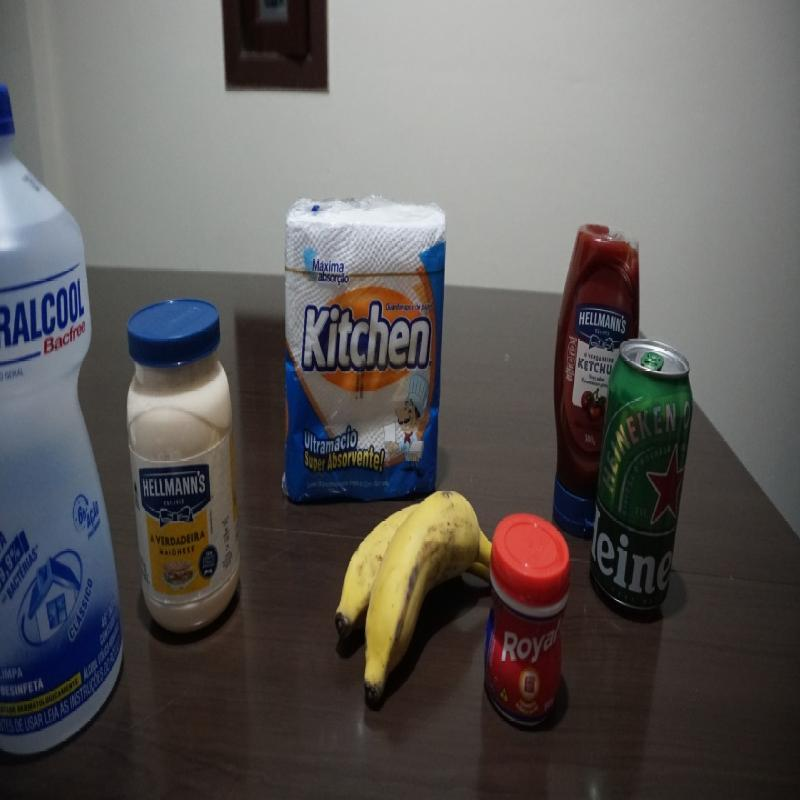Alcohol Bottle: (2, 82, 123, 752)
Banana: (334, 492, 480, 706)
Beer can: (601, 348, 696, 609)
Ketchup: (548, 208, 600, 497)
Mayonnaise: (126, 297, 242, 635)
Napkin: (287, 193, 439, 494)
Yeast: (486, 506, 568, 716)
